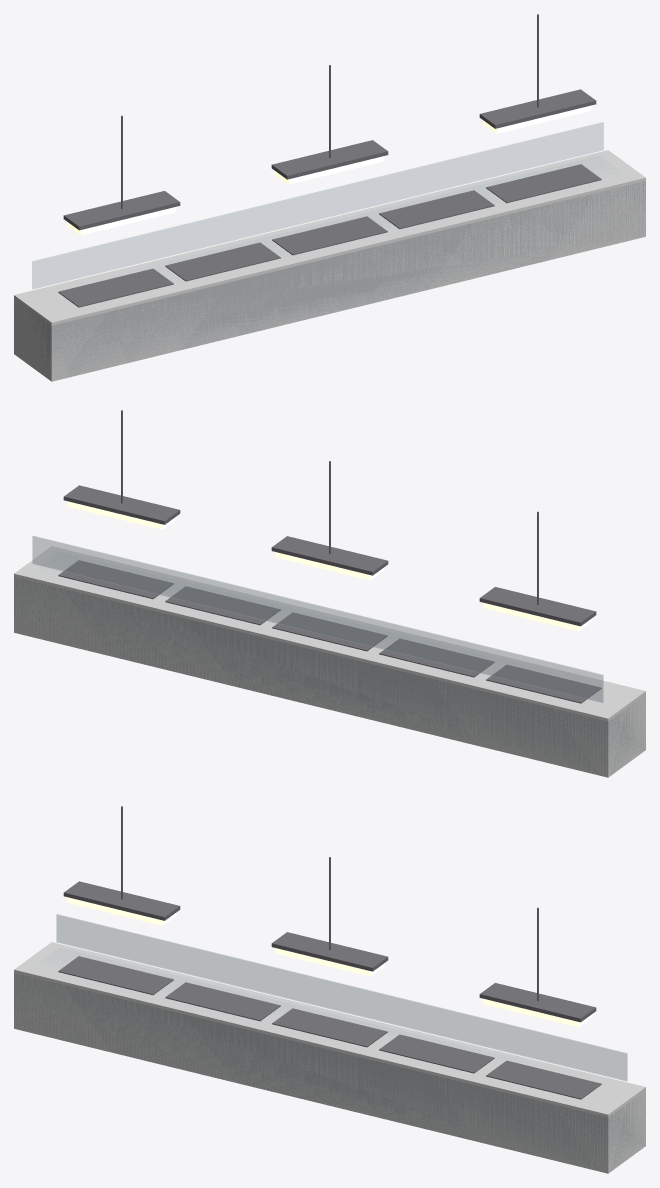
File: serving_counter.glb
3 renders of one model, top to bottom at view 1: azimuth 30°, elevation 25°; view 2: azimuth 150°, elevation 25°; view 3: azimuth 330°, elevation 25°, orthographic.
Parts seen in each view (by area): view 1: ServingCounter, COL_Body; view 2: ServingCounter, COL_Body; view 3: ServingCounter, COL_Body.
Part boxes in pixels (x1,y1,x2,y2): ServingCounter: [14, 14, 645, 380]; COL_Body: [14, 150, 645, 381]; ServingCounter: [14, 410, 645, 777]; COL_Body: [14, 546, 645, 777]; ServingCounter: [14, 806, 645, 1173]; COL_Body: [14, 942, 645, 1173].
Size of the model in its own units: 10 by 3.7 by 1.1.
